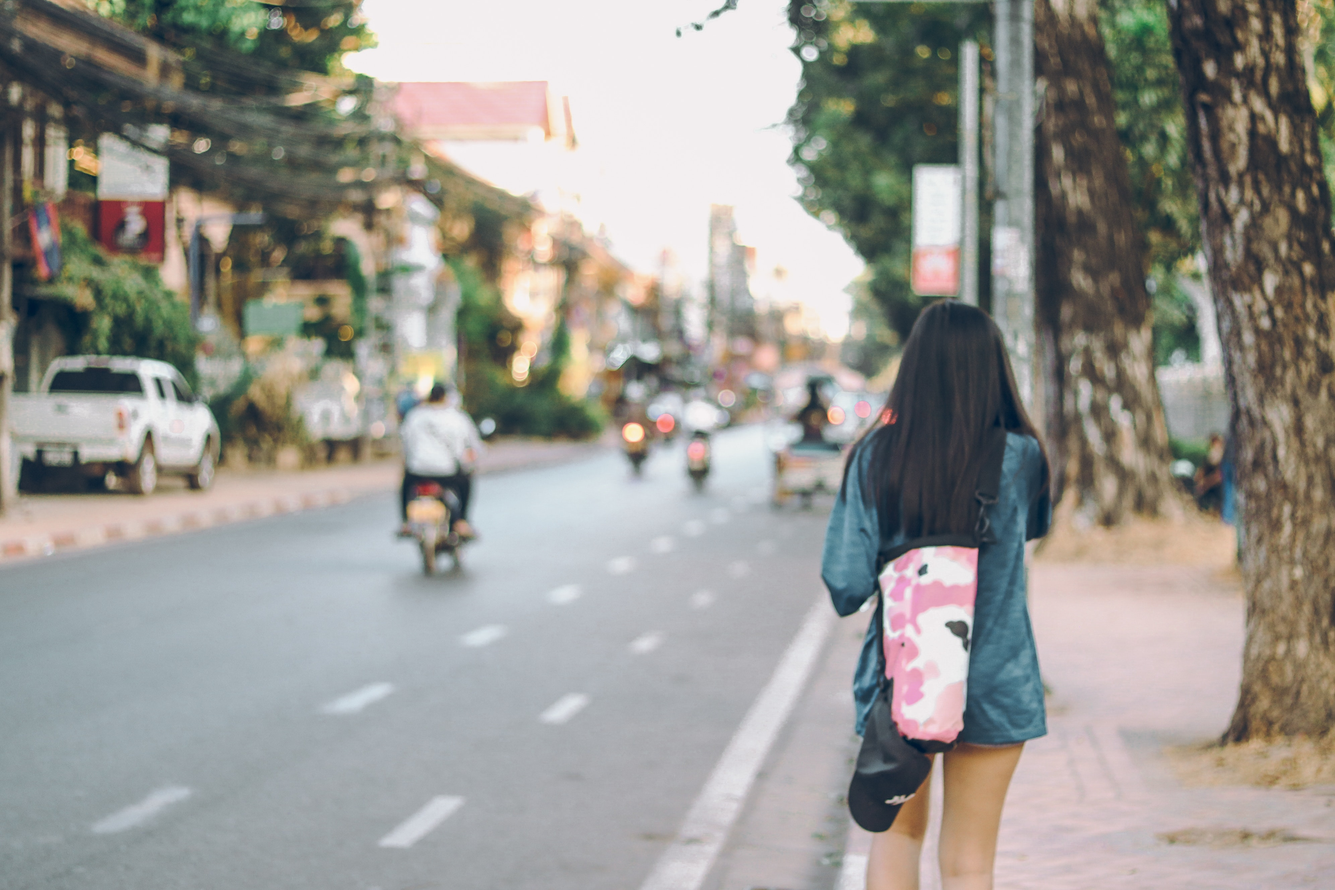Person: (813, 296, 1059, 890)
